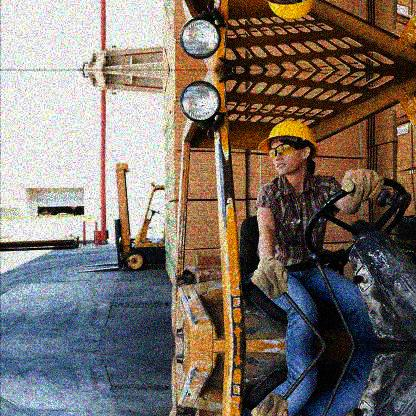helmet: (257, 120, 319, 181)
